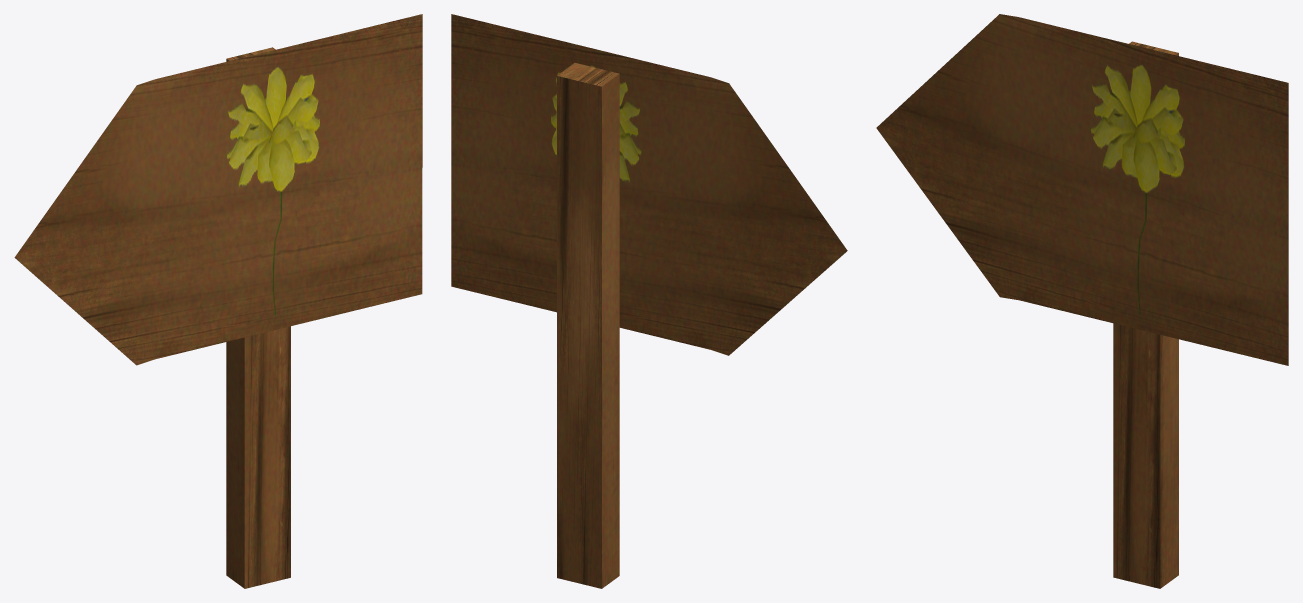
Rendered from Bord_Links.fbx.
The picture shows the model from 3 angles, left to right: view 1: azimuth 30°, elevation 25°; view 2: azimuth 150°, elevation 25°; view 3: azimuth 330°, elevation 25°; orthographic projection. The views are drawn at different scales.
Parts seen in each view (by area): view 1: polySurface2; view 2: polySurface2; view 3: polySurface2.
Boxes of the visible parts, x1=… form: polySurface2: x1=14, y1=14, x2=422, y2=588; polySurface2: x1=451, y1=14, x2=847, y2=588; polySurface2: x1=876, y1=14, x2=1288, y2=588.
Bounding box in the file's own units: 7.71 × 9.64 × 0.6772.
Materials: 1 (1 with a texture image).
